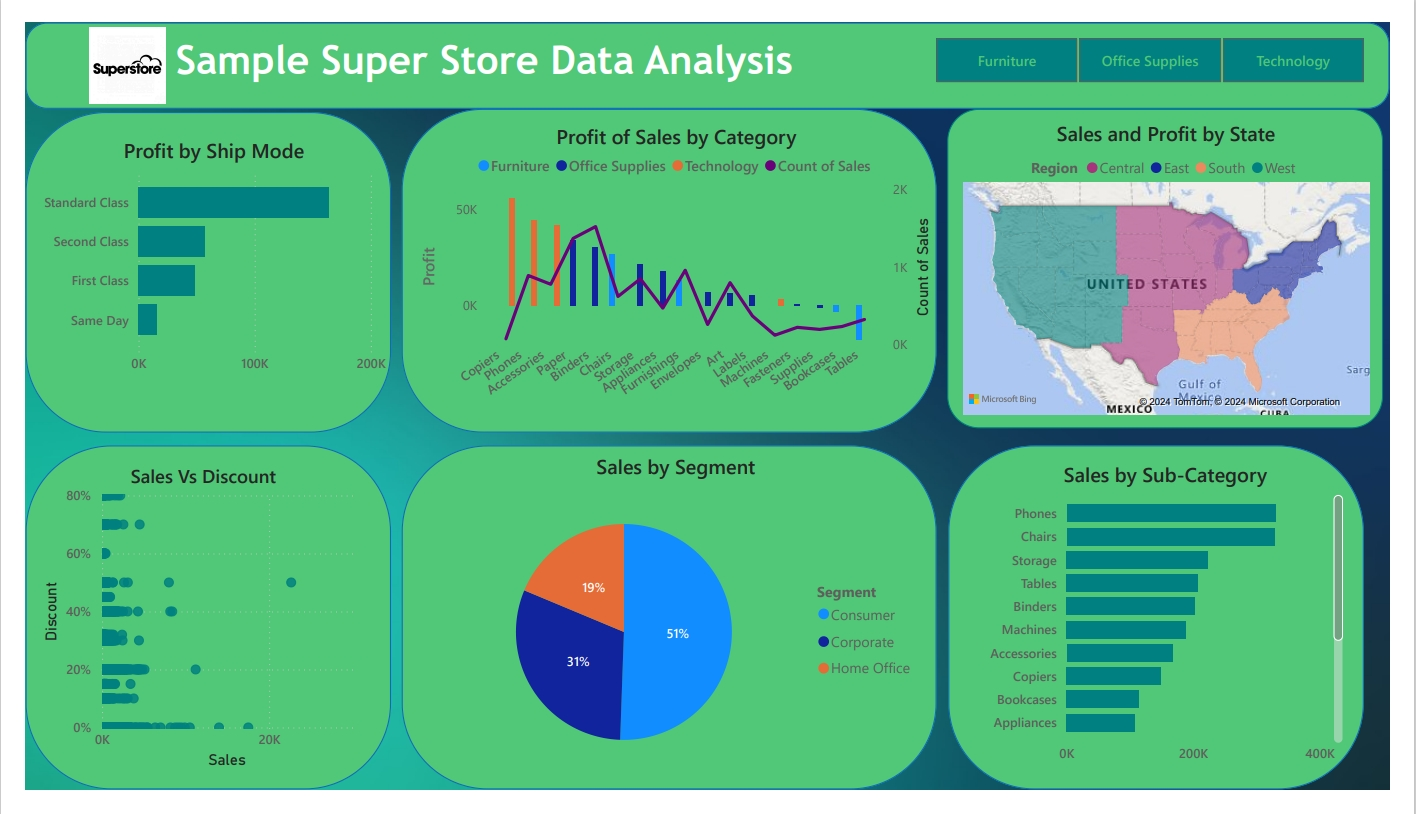

The page's visual inventory and layout, read from the dashboard file:
{"tool":"powerbi","page":{"name":"Page 1","canvas":[1280,720],"ordinal":0},"visuals":[{"type":"shape","box":[866.2,396.9,389.7,323.3],"z":0},{"type":"shape","box":[0,0,1280,80.8],"z":1000},{"type":"textbox","box":[136.3,8.4,620.1,63.9],"z":2000},{"type":"shape","box":[0,84.5,342.6,300.4],"z":3000},{"type":"shape","box":[353.5,80.8,501.9,304],"z":4000},{"type":"lineClusteredColumnComboChart","title":"Profit of Sales by Category","fields":{"Series":["SampleSuperstore.Category"],"Category":["SampleSuperstore.Sub-Category"],"Y":["Sum(SampleSuperstore.Profit)"],"Y2":["CountNonNull(SampleSuperstore.Sales)"]},"box":[366.8,94.1,488.6,276.3],"z":7000},{"type":"barChart","title":"Sales by Sub-Category","fields":{"Y":["Sum(SampleSuperstore.Sales)"],"Category":["SampleSuperstore.Sub-Category"]},"box":[898.8,411.4,342.6,293.2],"z":8000},{"type":"barChart","title":"Profit by Ship Mode","fields":{"Y":["Sum(SampleSuperstore.Profit)"],"Category":["SampleSuperstore.Ship Mode"]},"box":[10.9,107.4,331.8,230.4],"z":9000},{"type":"shape","box":[0,396.9,342.6,323.3],"z":10000},{"type":"scatterChart","title":"Sales Vs Discount","fields":{"X":["SampleSuperstore.Sales"],"Y":["SampleSuperstore.Discount"]},"box":[10.9,412.6,312.5,293.2],"z":11000},{"type":"shape","box":[353.5,396.9,501.9,323.3],"z":11001},{"type":"pieChart","title":"Sales by Segment","fields":{"Category":["SampleSuperstore.Segment"],"Y":["Sum(SampleSuperstore.Sales)"]},"box":[376.4,404.2,468.1,316.1],"z":11002},{"type":"slicer","fields":{"Values":["SampleSuperstore.Category"]},"box":[828.8,8.4,451.2,54.3],"z":11003},{"type":"filledMap","title":"Sales and Profit by State ","fields":{"Category":["SampleSuperstore.State"],"Series":["SampleSuperstore.Region"]},"box":[865,80.8,409,300.4],"z":11005},{"type":"image","box":[55.5,0,80.8,80.8],"z":11006}]}

Visuals, with their boxes in screenshot pixels (x1, y1, x2, y2), scaled from the page's 1280x720 canvas onto the 1416x814 screenshot:
shape: x1=958 y1=449 x2=1389 y2=813
shape: x1=0 y1=0 x2=1415 y2=91
textbox: x1=151 y1=9 x2=837 y2=82
shape: x1=0 y1=96 x2=379 y2=435
shape: x1=391 y1=91 x2=946 y2=435
"Profit of Sales by Category" lineClusteredColumnComboChart: x1=406 y1=106 x2=946 y2=419
"Sales by Sub-Category" barChart: x1=994 y1=465 x2=1373 y2=797
"Profit by Ship Mode" barChart: x1=12 y1=121 x2=379 y2=382
shape: x1=0 y1=449 x2=379 y2=813
"Sales Vs Discount" scatterChart: x1=12 y1=466 x2=358 y2=798
shape: x1=391 y1=449 x2=946 y2=813
"Sales by Segment" pieChart: x1=416 y1=457 x2=934 y2=813
slicer - SampleSuperstore.Category: x1=917 y1=9 x2=1415 y2=71
"Sales and Profit by State " filledMap: x1=957 y1=91 x2=1409 y2=431
image: x1=61 y1=0 x2=151 y2=91
